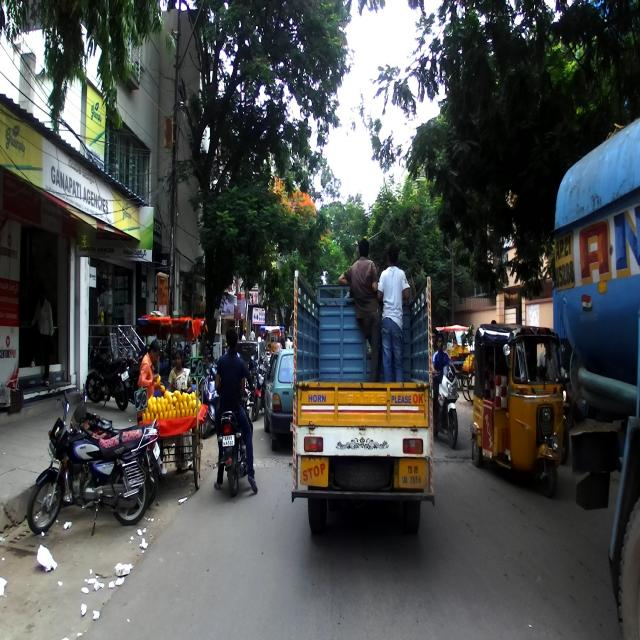autorickshaw: (469, 322, 570, 498)
motorcycle: (28, 411, 156, 534), (216, 387, 249, 498), (85, 335, 130, 411), (431, 364, 461, 448)
truck: (290, 270, 435, 535)
